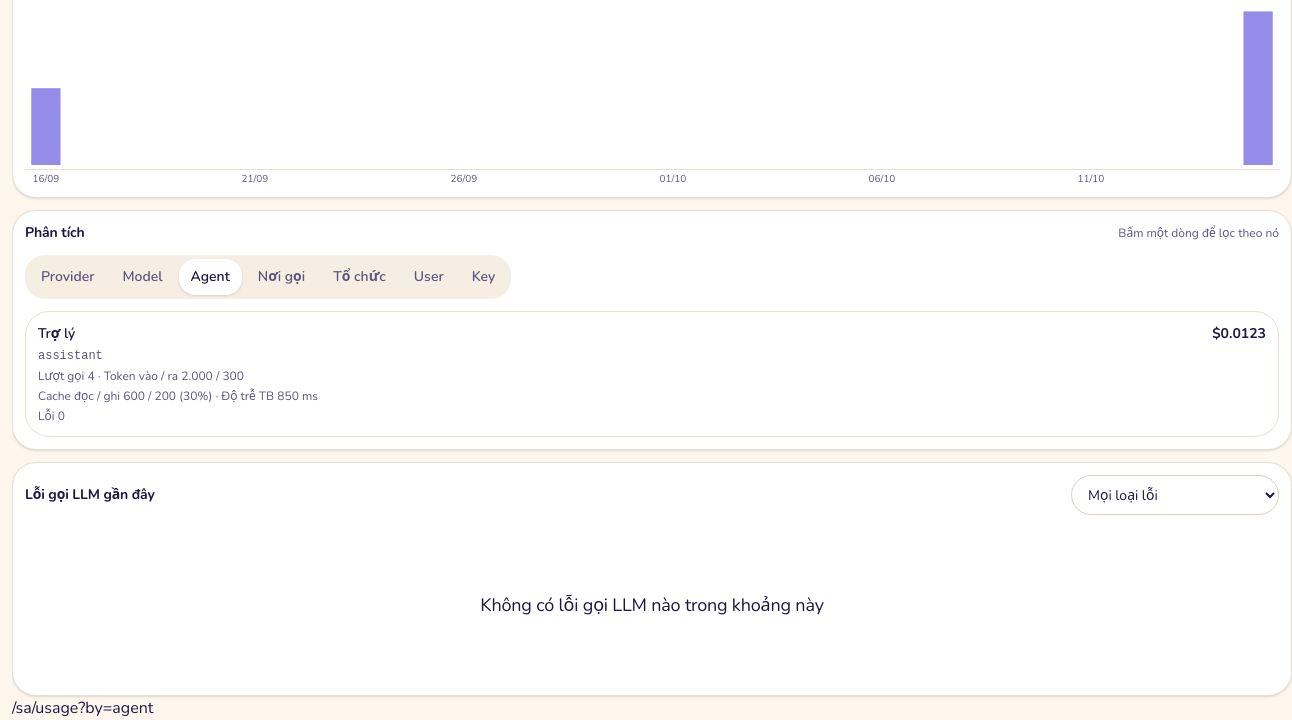
Test: UsagePage — KPI, bộ lọc trên URL, bảng, biểu đồ, lỗi › điện thoại: dòng là thẻ, bấm thẻ cũng lọc sâu
(page scrolled)
Click the button with test id "usage-row-a1". click: (652,374)
box: left=25, top=311, right=1279, bottom=437
(page scrolled)
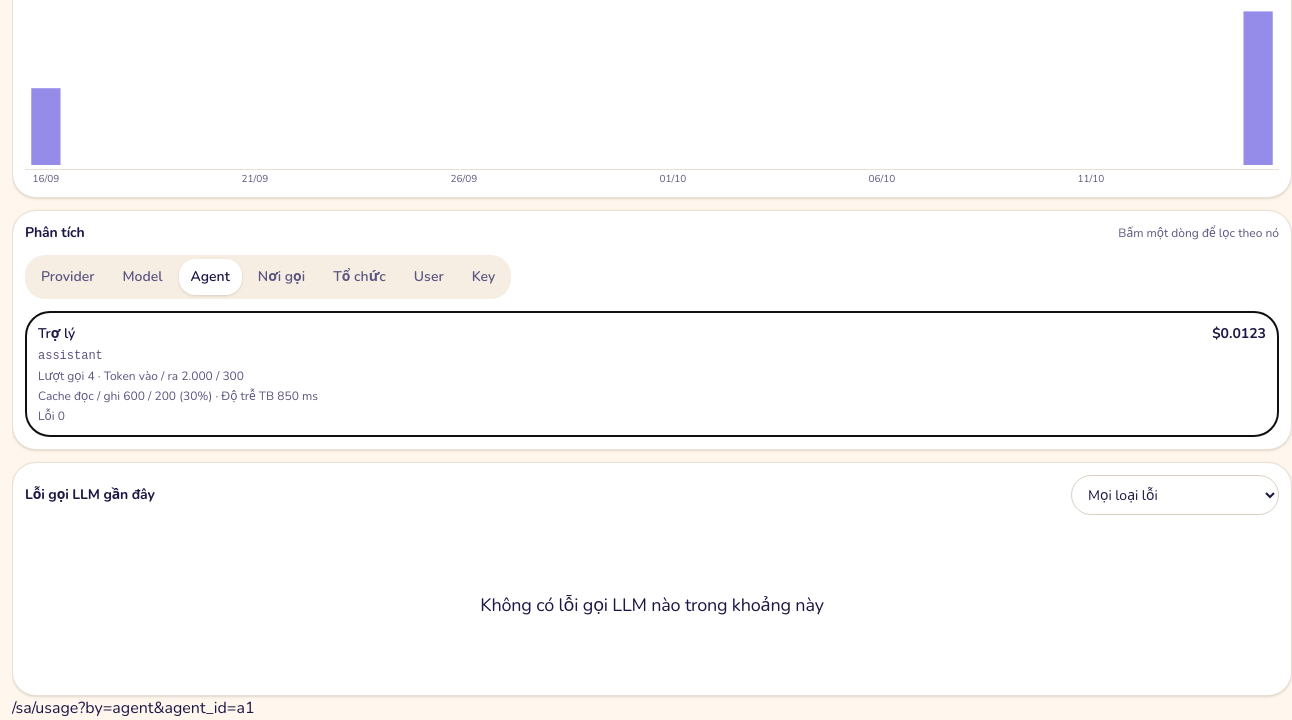
Result: the text with test id "where" shows "agent_id=a1" at left=12, top=697, right=254, bottom=719
